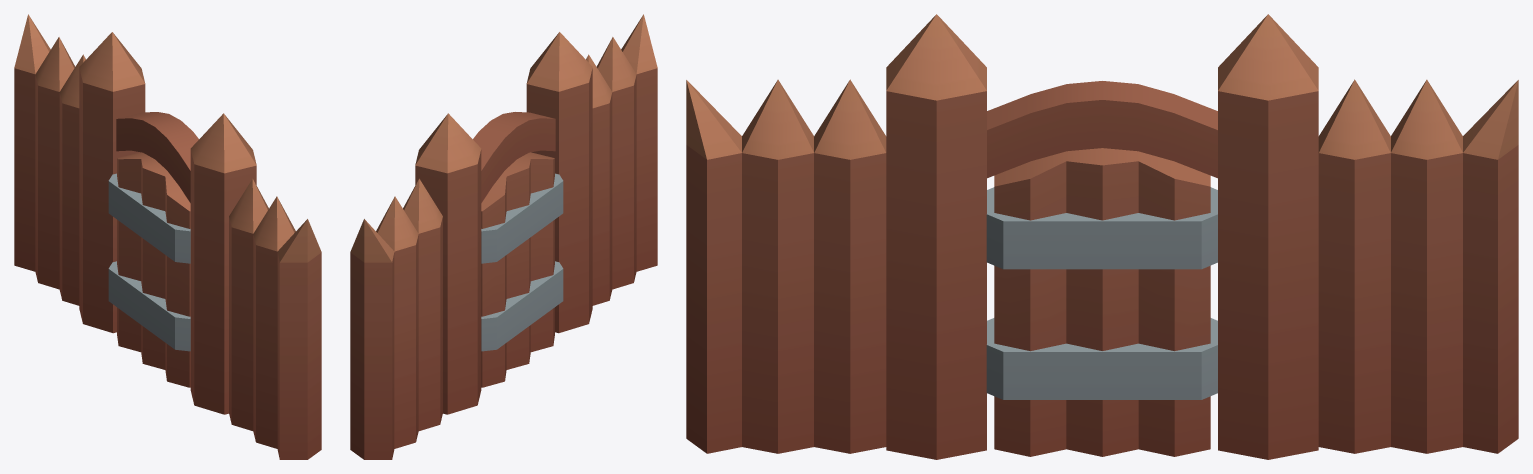
File: fence_wood_straight_gate.gltf
3 views of the same model, side by side, from view 1: azimuth 30°, elevation 25°; view 2: azimuth 150°, elevation 25°; view 3: azimuth 270°, elevation 25° (orthographic). The views are drawn at different scales.
Parts seen in each view (by area): view 1: fence_wood_straight_gate, fence_wood_straight_door; view 2: fence_wood_straight_gate, fence_wood_straight_door; view 3: fence_wood_straight_gate, fence_wood_straight_door.
Part boxes in pixels (<box>): fence_wood_straight_gate: <box>14,14,321,459</box>; fence_wood_straight_door: <box>108,152,190,387</box>; fence_wood_straight_gate: <box>350,14,657,459</box>; fence_wood_straight_door: <box>481,152,563,387</box>; fence_wood_straight_gate: <box>686,14,1518,459</box>; fence_wood_straight_door: <box>986,148,1217,456</box>.
Size of the model in its own units: 0.14 by 0.65 by 1.15.
Materials: 1 (1 with a texture image).
